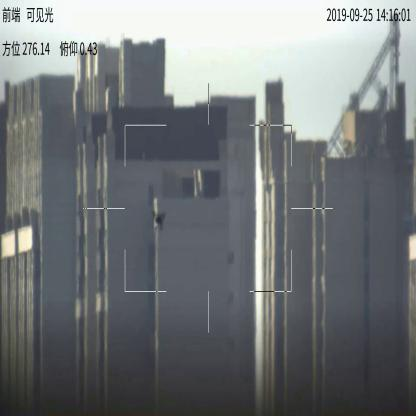uav: (150, 208, 166, 231)
